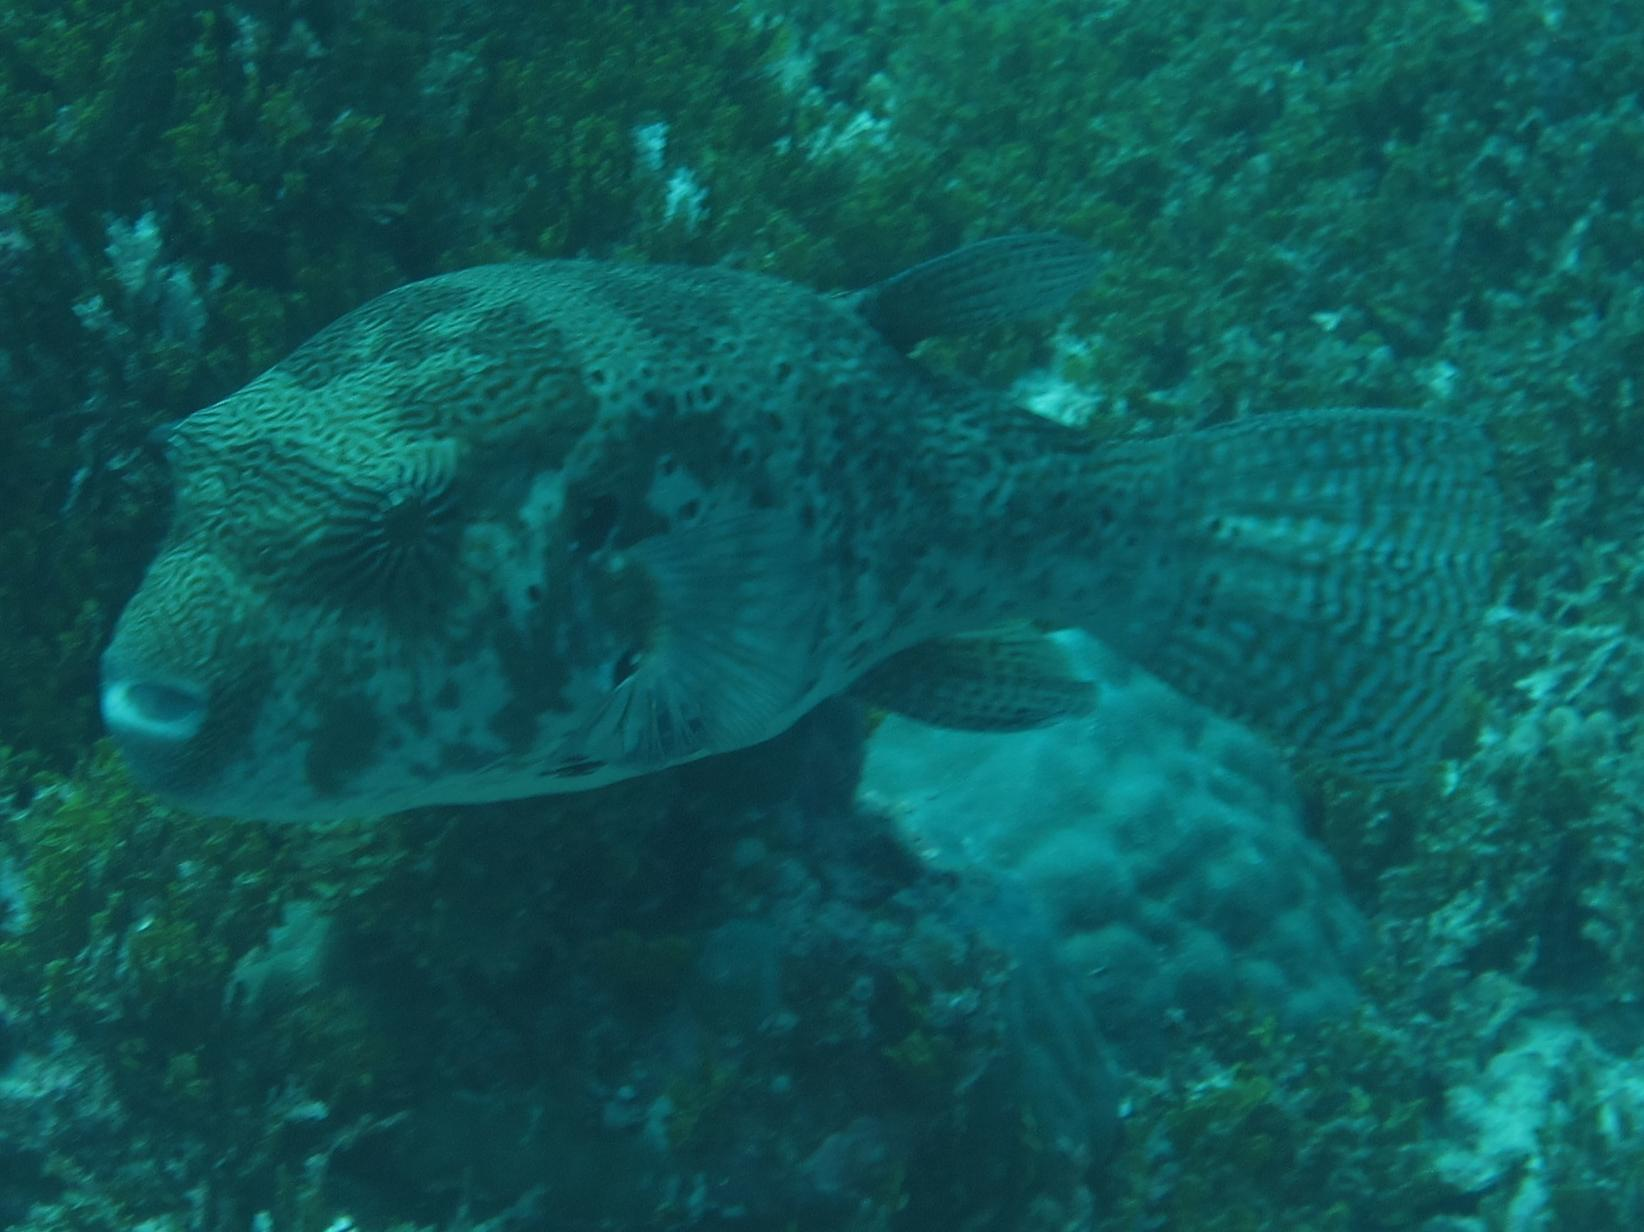Fish: (25, 146, 1604, 978)
